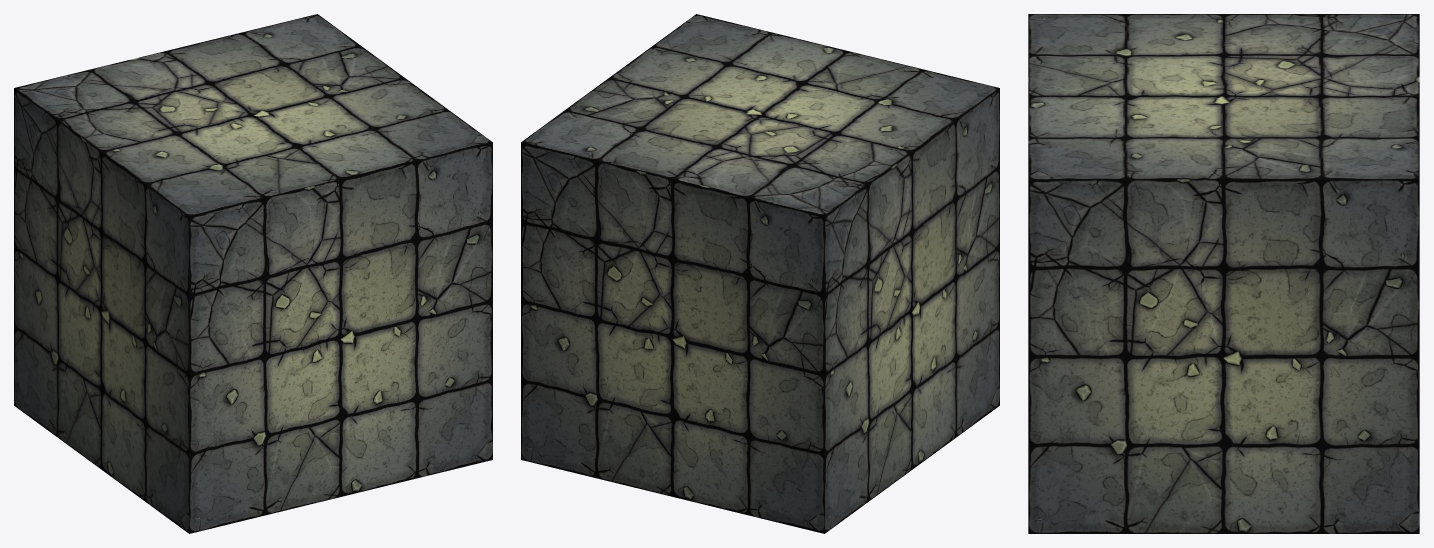
File: breakablefloor.FBX
3 renders of one model, left to right at view 1: azimuth 30°, elevation 25°; view 2: azimuth 150°, elevation 25°; view 3: azimuth 270°, elevation 25°, orthographic. The views are drawn at different scales.
Visible parts, largest first — view 1: Box001_Part_3, Box001_Part_8, Box001_Part_1, Box001_Part_2, Box001_Part_4, Box001_Part_9, Box001_Part_7, Box001_Part_5, Box001_Part_6; view 2: Box001_Part_8, Box001_Part_6, Box001_Part_9, Box001_Part_3, Box001_Part_2, Box001_Part_4, Box001_Part_1, Box001_Part_5; view 3: Box001_Part_7, Box001_Part_8, Box001_Part_9, Box001_Part_10, Box001_Part_1, Box001_Part_4, Box001_Part_6, Box001_Part_5.
Part boxes in pixels (x1,y1,x2,y2): Box001_Part_3: [115, 219, 478, 533]; Box001_Part_8: [14, 54, 336, 290]; Box001_Part_1: [330, 118, 492, 341]; Box001_Part_2: [14, 289, 123, 479]; Box001_Part_4: [228, 51, 398, 212]; Box001_Part_9: [154, 14, 359, 64]; Box001_Part_7: [452, 333, 492, 463]; Box001_Part_5: [387, 73, 459, 135]; Box001_Part_6: [14, 290, 34, 419]; Box001_Part_8: [670, 58, 999, 417]; Box001_Part_6: [521, 327, 844, 533]; Box001_Part_9: [521, 111, 720, 336]; Box001_Part_3: [926, 91, 999, 459]; Box001_Part_2: [825, 259, 933, 518]; Box001_Part_4: [572, 53, 878, 149]; Box001_Part_1: [664, 14, 856, 55]; Box001_Part_5: [602, 38, 734, 82]; Box001_Part_7: [1028, 342, 1320, 533]; Box001_Part_8: [1028, 14, 1419, 113]; Box001_Part_9: [1306, 90, 1419, 418]; Box001_Part_10: [1102, 163, 1326, 389]; Box001_Part_1: [1028, 92, 1107, 401]; Box001_Part_4: [1028, 80, 1352, 213]; Box001_Part_6: [1242, 396, 1419, 533]; Box001_Part_5: [1102, 140, 1240, 333].
Size of the model in its own units: 1 by 1 by 1.
Materials: 1 (1 with a texture image).
